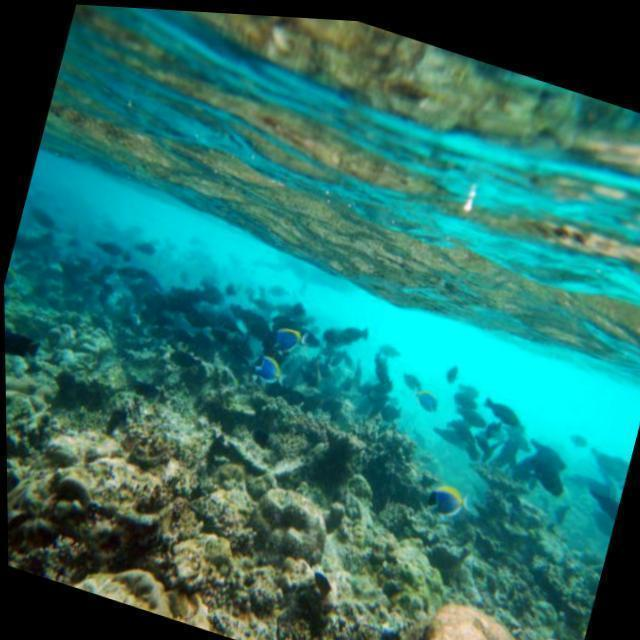Dead Coral: (4, 277, 623, 640)
